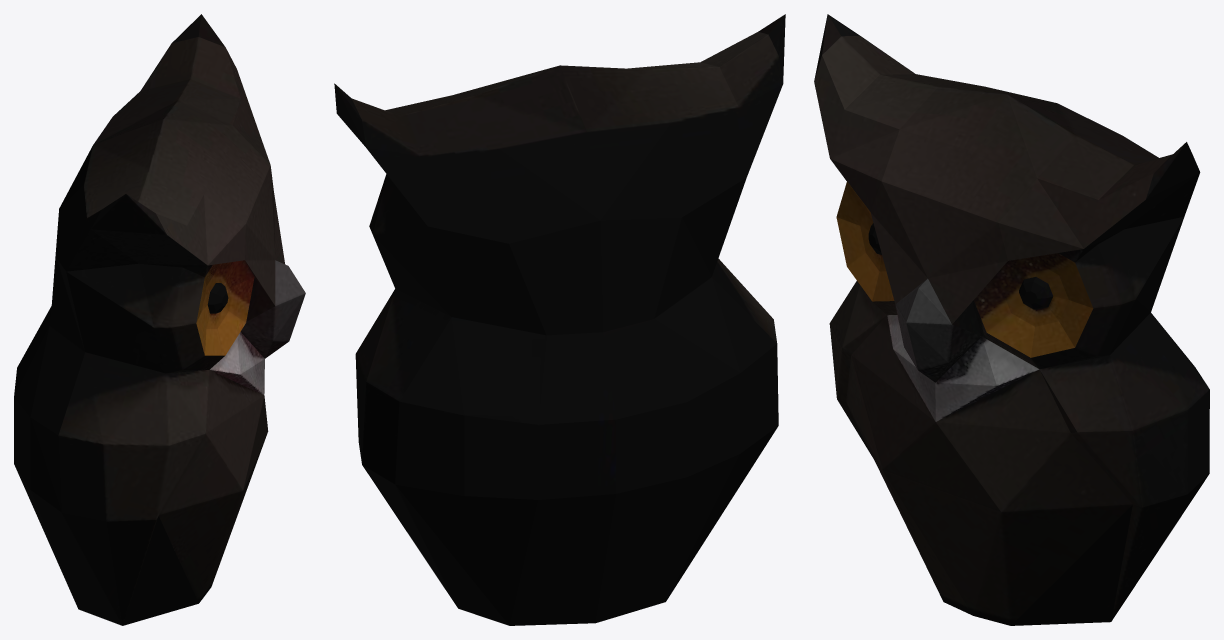
File: owl.glb
3 views of the same model, side by side, from view 1: azimuth 30°, elevation 25°; view 2: azimuth 150°, elevation 25°; view 3: azimuth 270°, elevation 25° (orthographic). The views are drawn at different scales.
Parts seen in each view (by area): view 1: owl; view 2: owl; view 3: owl.
Part boxes in pixels (bbox=[...]): owl: bbox=[14, 14, 305, 625]; owl: bbox=[334, 14, 785, 625]; owl: bbox=[814, 14, 1209, 625].
Bounding box in the file's own units: 1.26 × 2.01 × 1.38.
1 material, 1 textured.
